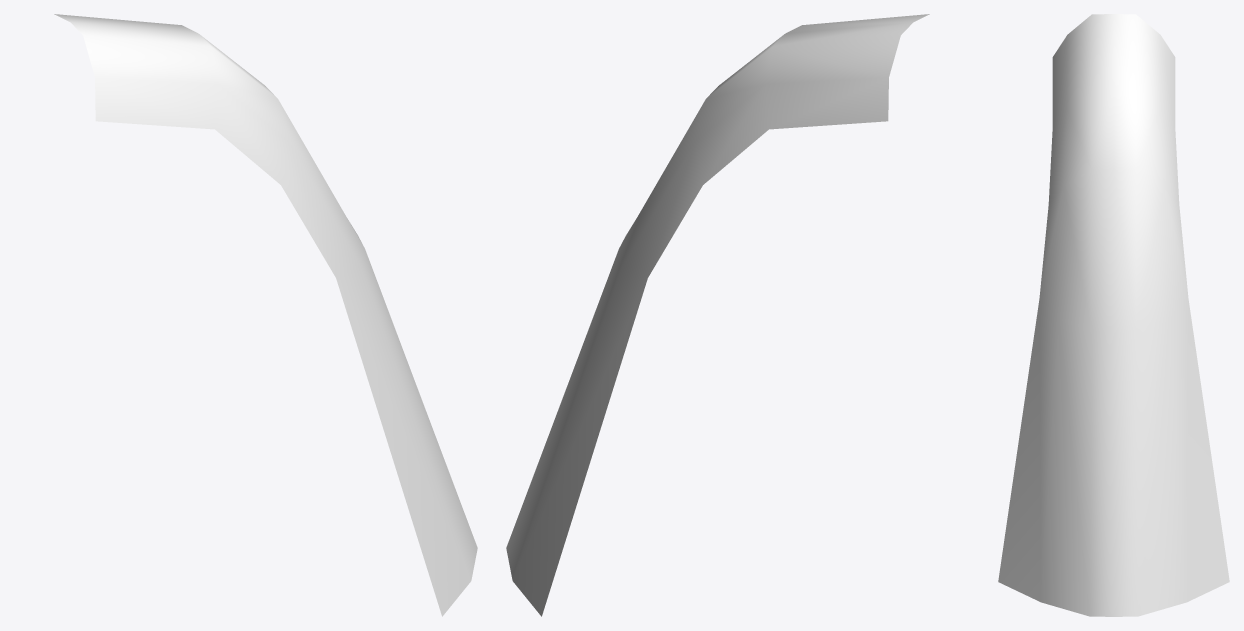
The model's file is waterfall-turtle01-2-2.glb.
3 views of the same model, side by side, from view 1: azimuth 30°, elevation 25°; view 2: azimuth 150°, elevation 25°; view 3: azimuth 270°, elevation 25° (orthographic). The views are drawn at different scales.
Parts seen in each view (by area): view 1: waterfall05; view 2: waterfall05; view 3: waterfall05.
Part boxes in pixels (bbox=[...]): waterfall05: bbox=[54, 14, 477, 616]; waterfall05: bbox=[506, 14, 929, 616]; waterfall05: bbox=[998, 14, 1229, 616].
Bounding box in the file's own units: 3.11 × 4.42 × 2.02.
1 material, 1 textured.
